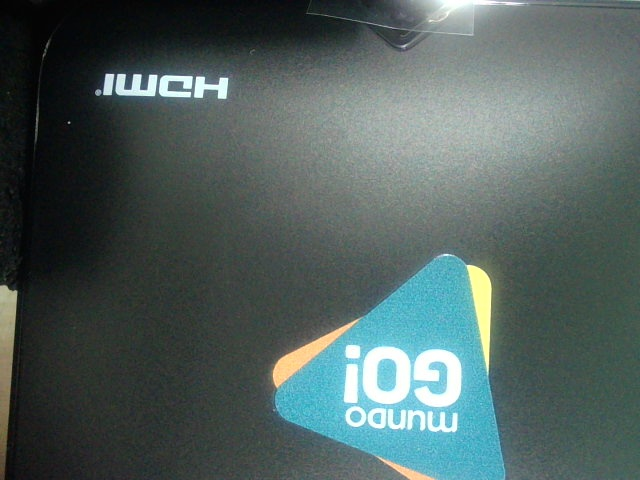AP_IPGMundoGO: (240, 244, 556, 479)
